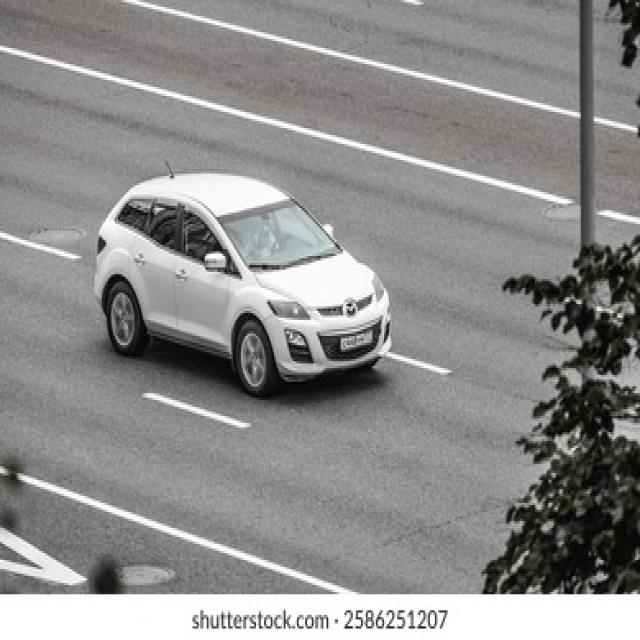mazda: (342, 298, 359, 318)
